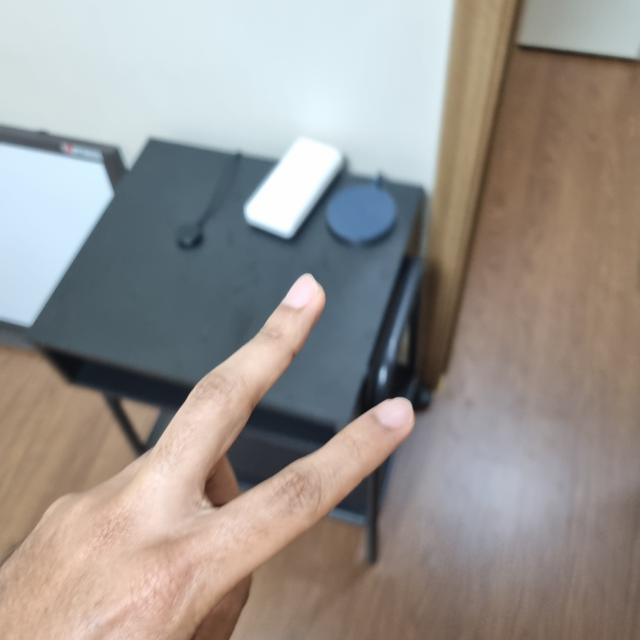Scissors: (0, 283, 411, 637)
